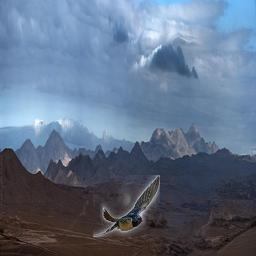Swallow: (93, 175, 160, 237)
